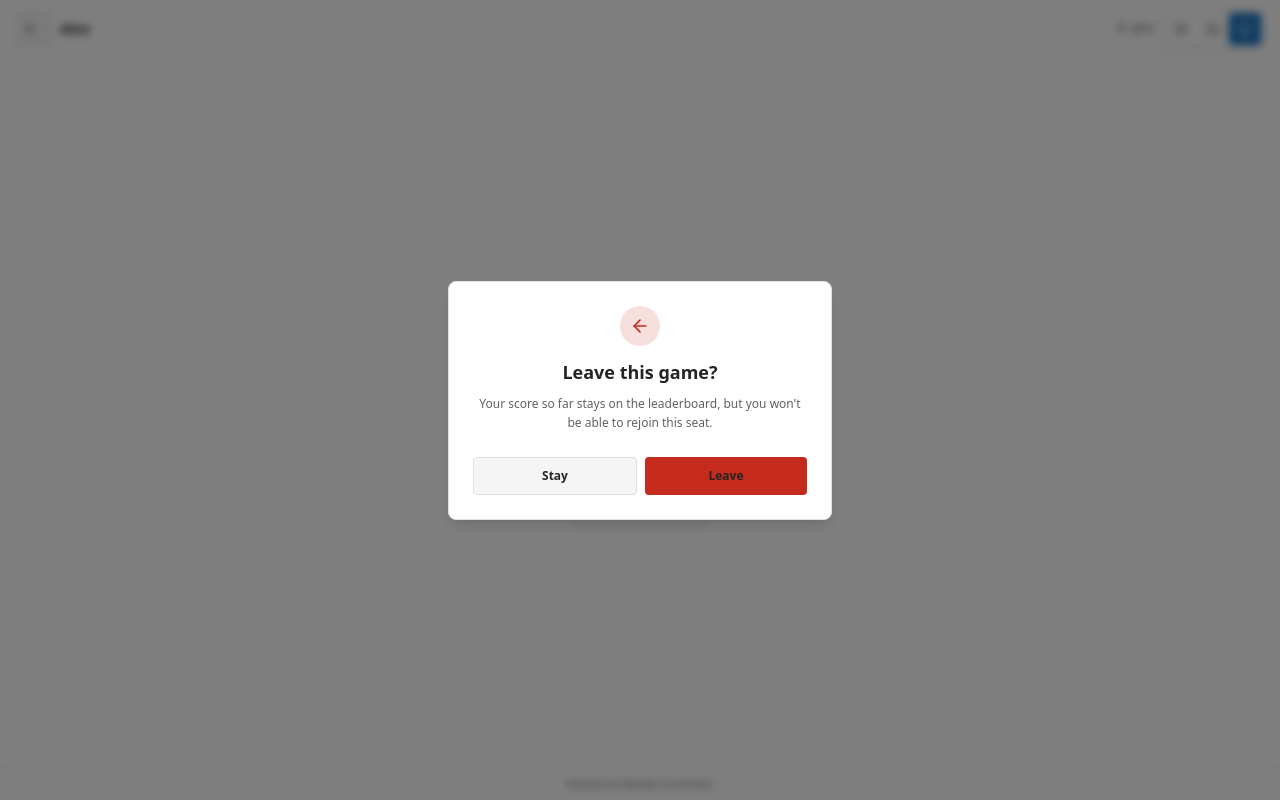
Test case: Player Leave & History Guard Component Tests › opens confirm leave dialog on popstate (system back gesture)
Check: the heading "Leave this game?" is shown, box [562,360,718,384]
Check: the text "your score so far stays on the leaderboard, but you won't be able to rejoin this seat" is shown, box [479,394,801,431]
// Clicking Stay closes the dialog
Click the button "Stay": (555, 476) [473,456,637,494]
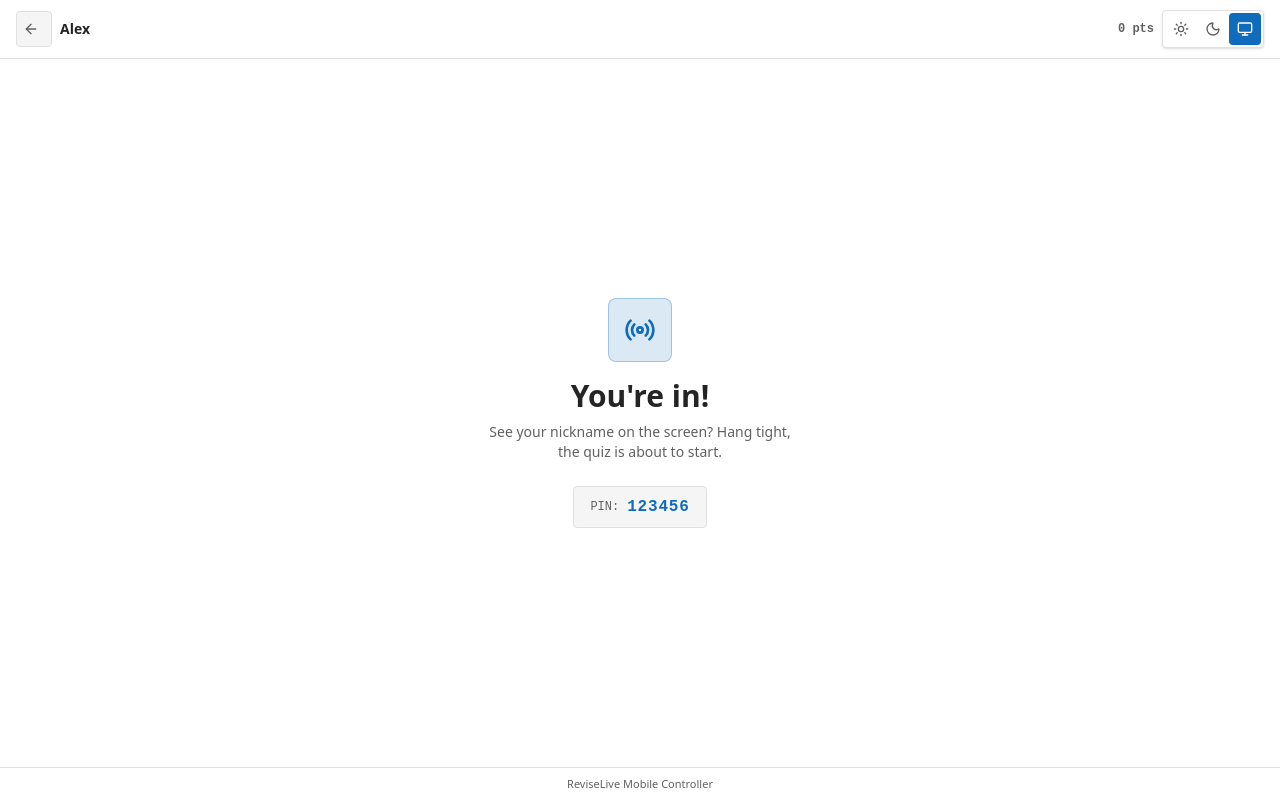
Check: the heading "Leave this game?" is gone
